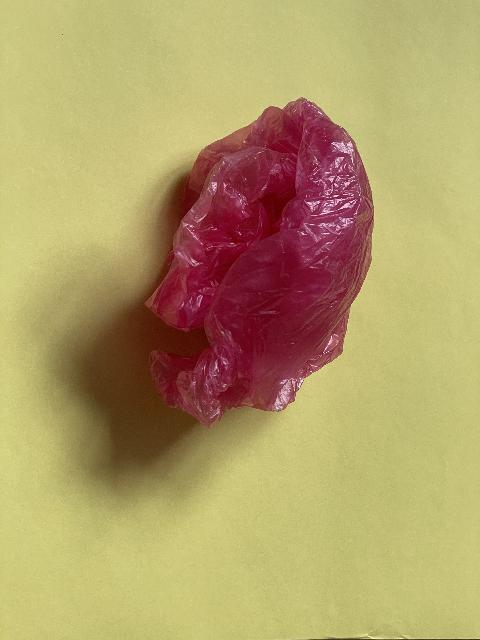plasticbag: (140, 94, 377, 432)
